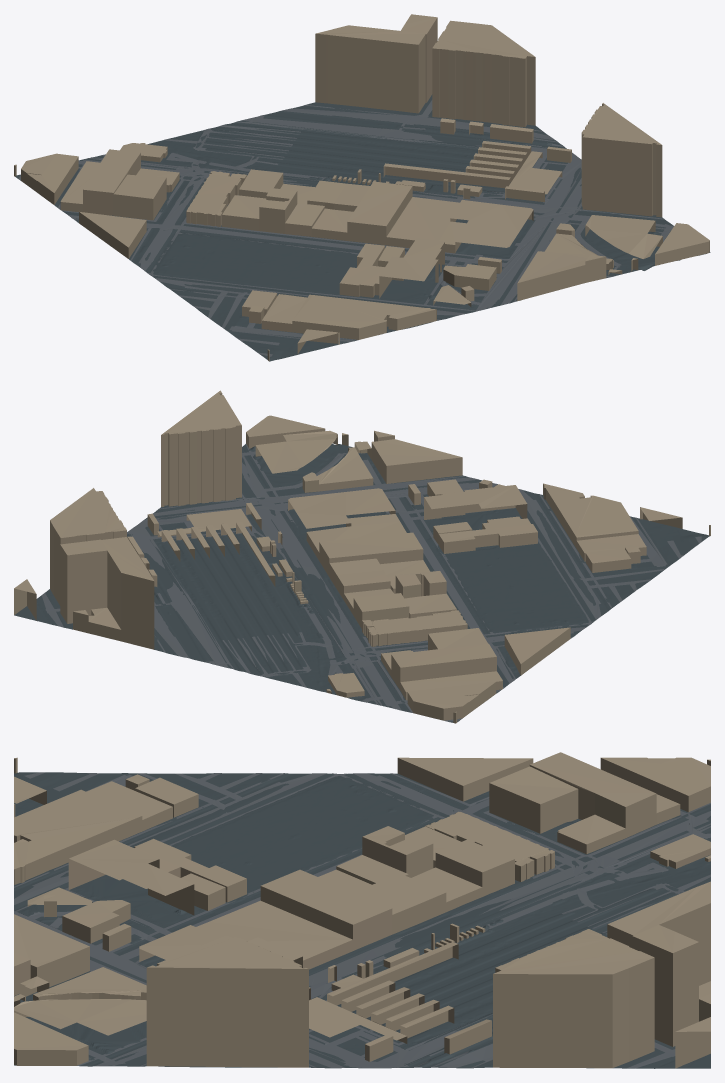
File: epsg26910-1440-10888.lod0.glb
3 views of the same model, one above another, from view 1: azimuth 30°, elevation 25°; view 2: azimuth 150°, elevation 25°; view 3: azimuth 270°, elevation 25° (orthographic). The views are drawn at different scales.
Parts seen in each view (by area): view 1: epsg26910-1440-10888-lod0; view 2: epsg26910-1440-10888-lod0; view 3: epsg26910-1440-10888-lod0.
Part boxes in pixels (x1,y1,x2,y2): epsg26910-1440-10888-lod0: (14, 14, 710, 361); epsg26910-1440-10888-lod0: (14, 390, 710, 723); epsg26910-1440-10888-lod0: (14, 752, 710, 1068).
Size of the model in its own units: 384 by 62.67 by 384.
